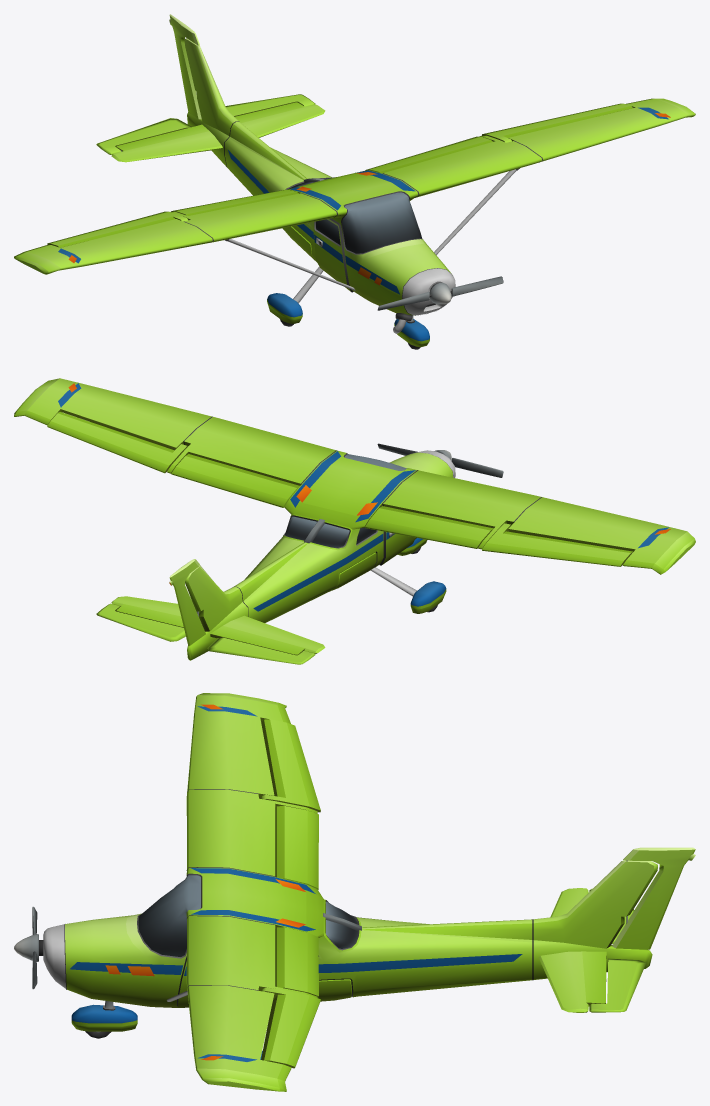
3 renders of one model, top to bottom at view 1: azimuth 30°, elevation 25°; view 2: azimuth 150°, elevation 25°; view 3: azimuth 270°, elevation 25°, orthographic. The views are drawn at different scales.
Visible parts, largest first — view 1: Fuselage_Plane_6A, Livery_6A, Aileron_6A_F.L, Rudder_6A, Propeller_6A, Aileron_6A_F.R, Elevator_6A_R.R, Flap_6A_F.L, Flap_6A_F.R, Elevator_6A_R.L; view 2: Fuselage_Plane_6A, Flap_6A_F.L, Aileron_6A_F.L, Aileron_6A_F.R, Flap_6A_F.R, Livery_6A, Rudder_6A, Elevator_6A_R.R, Elevator_6A_R.L, Propeller_6A; view 3: Fuselage_Plane_6A, Livery_6A, Rudder_6A, Aileron_6A_F.R, Flap_6A_F.R, Aileron_6A_F.L, Flap_6A_F.L, Elevator_6A_R.L, Propeller_6A.
Part boxes in pixels (x1=…): Fuselage_Plane_6A: x1=14, y1=38, x2=695, y2=347; Livery_6A: x1=58, y1=107, x2=670, y2=294; Aileron_6A_F.L: x1=482, y1=103, x2=633, y2=142; Rudder_6A: x1=169, y1=14, x2=201, y2=119; Propeller_6A: x1=377, y1=276, x2=503, y2=310; Aileron_6A_F.R: x1=47, y1=211, x2=187, y2=247; Elevator_6A_R.R: x1=96, y1=118, x2=191, y2=154; Flap_6A_F.L: x1=365, y1=136, x2=492, y2=173; Flap_6A_F.R: x1=171, y1=189, x2=298, y2=215; Elevator_6A_R.L: x1=225, y1=94, x2=315, y2=116; Fuselage_Plane_6A: x1=14, y1=378, x2=695, y2=660; Flap_6A_F.L: x1=171, y1=454, x2=299, y2=507; Aileron_6A_F.L: x1=47, y1=412, x2=188, y2=473; Aileron_6A_F.R: x1=482, y1=523, x2=633, y2=566; Flap_6A_F.R: x1=365, y1=506, x2=493, y2=548; Livery_6A: x1=58, y1=383, x2=670, y2=611; Rudder_6A: x1=169, y1=559, x2=205, y2=645; Elevator_6A_R.R: x1=207, y1=637, x2=315, y2=664; Elevator_6A_R.L: x1=96, y1=603, x2=185, y2=641; Propeller_6A: x1=377, y1=443, x2=503, y2=477; Fuselage_Plane_6A: x1=43, y1=693, x2=657, y2=1091; Livery_6A: x1=70, y1=704, x2=522, y2=1061; Rudder_6A: x1=612, y1=847, x2=695, y2=949; Aileron_6A_F.R: x1=261, y1=719, x2=320, y2=812; Flap_6A_F.R: x1=275, y1=806, x2=318, y2=889; Aileron_6A_F.L: x1=261, y1=987, x2=320, y2=1068; Flap_6A_F.L: x1=275, y1=927, x2=318, y2=997; Elevator_6A_R.L: x1=589, y1=958, x2=646, y2=1012; Propeller_6A: x1=14, y1=906, x2=43, y2=989.
Size of the model in its own units: 9.8 by 2.24 by 7.29.
